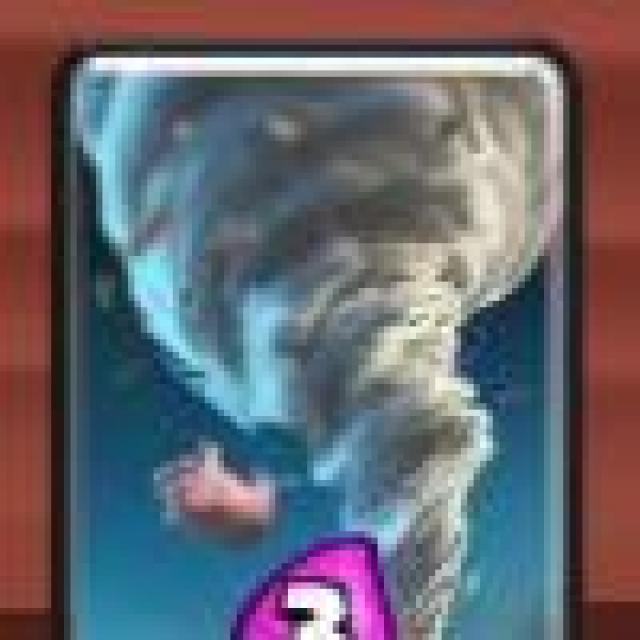Tornado: (49, 37, 579, 639)
